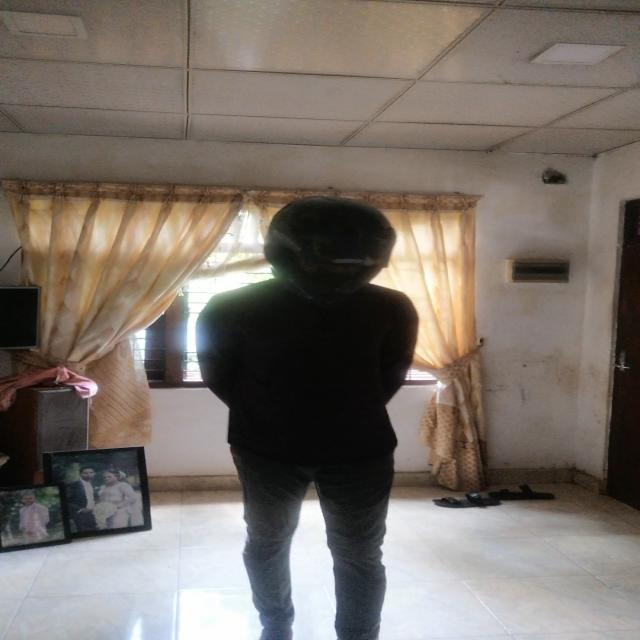Helmet_Wearer: (238, 184, 404, 304)
Person: (195, 174, 415, 640)
